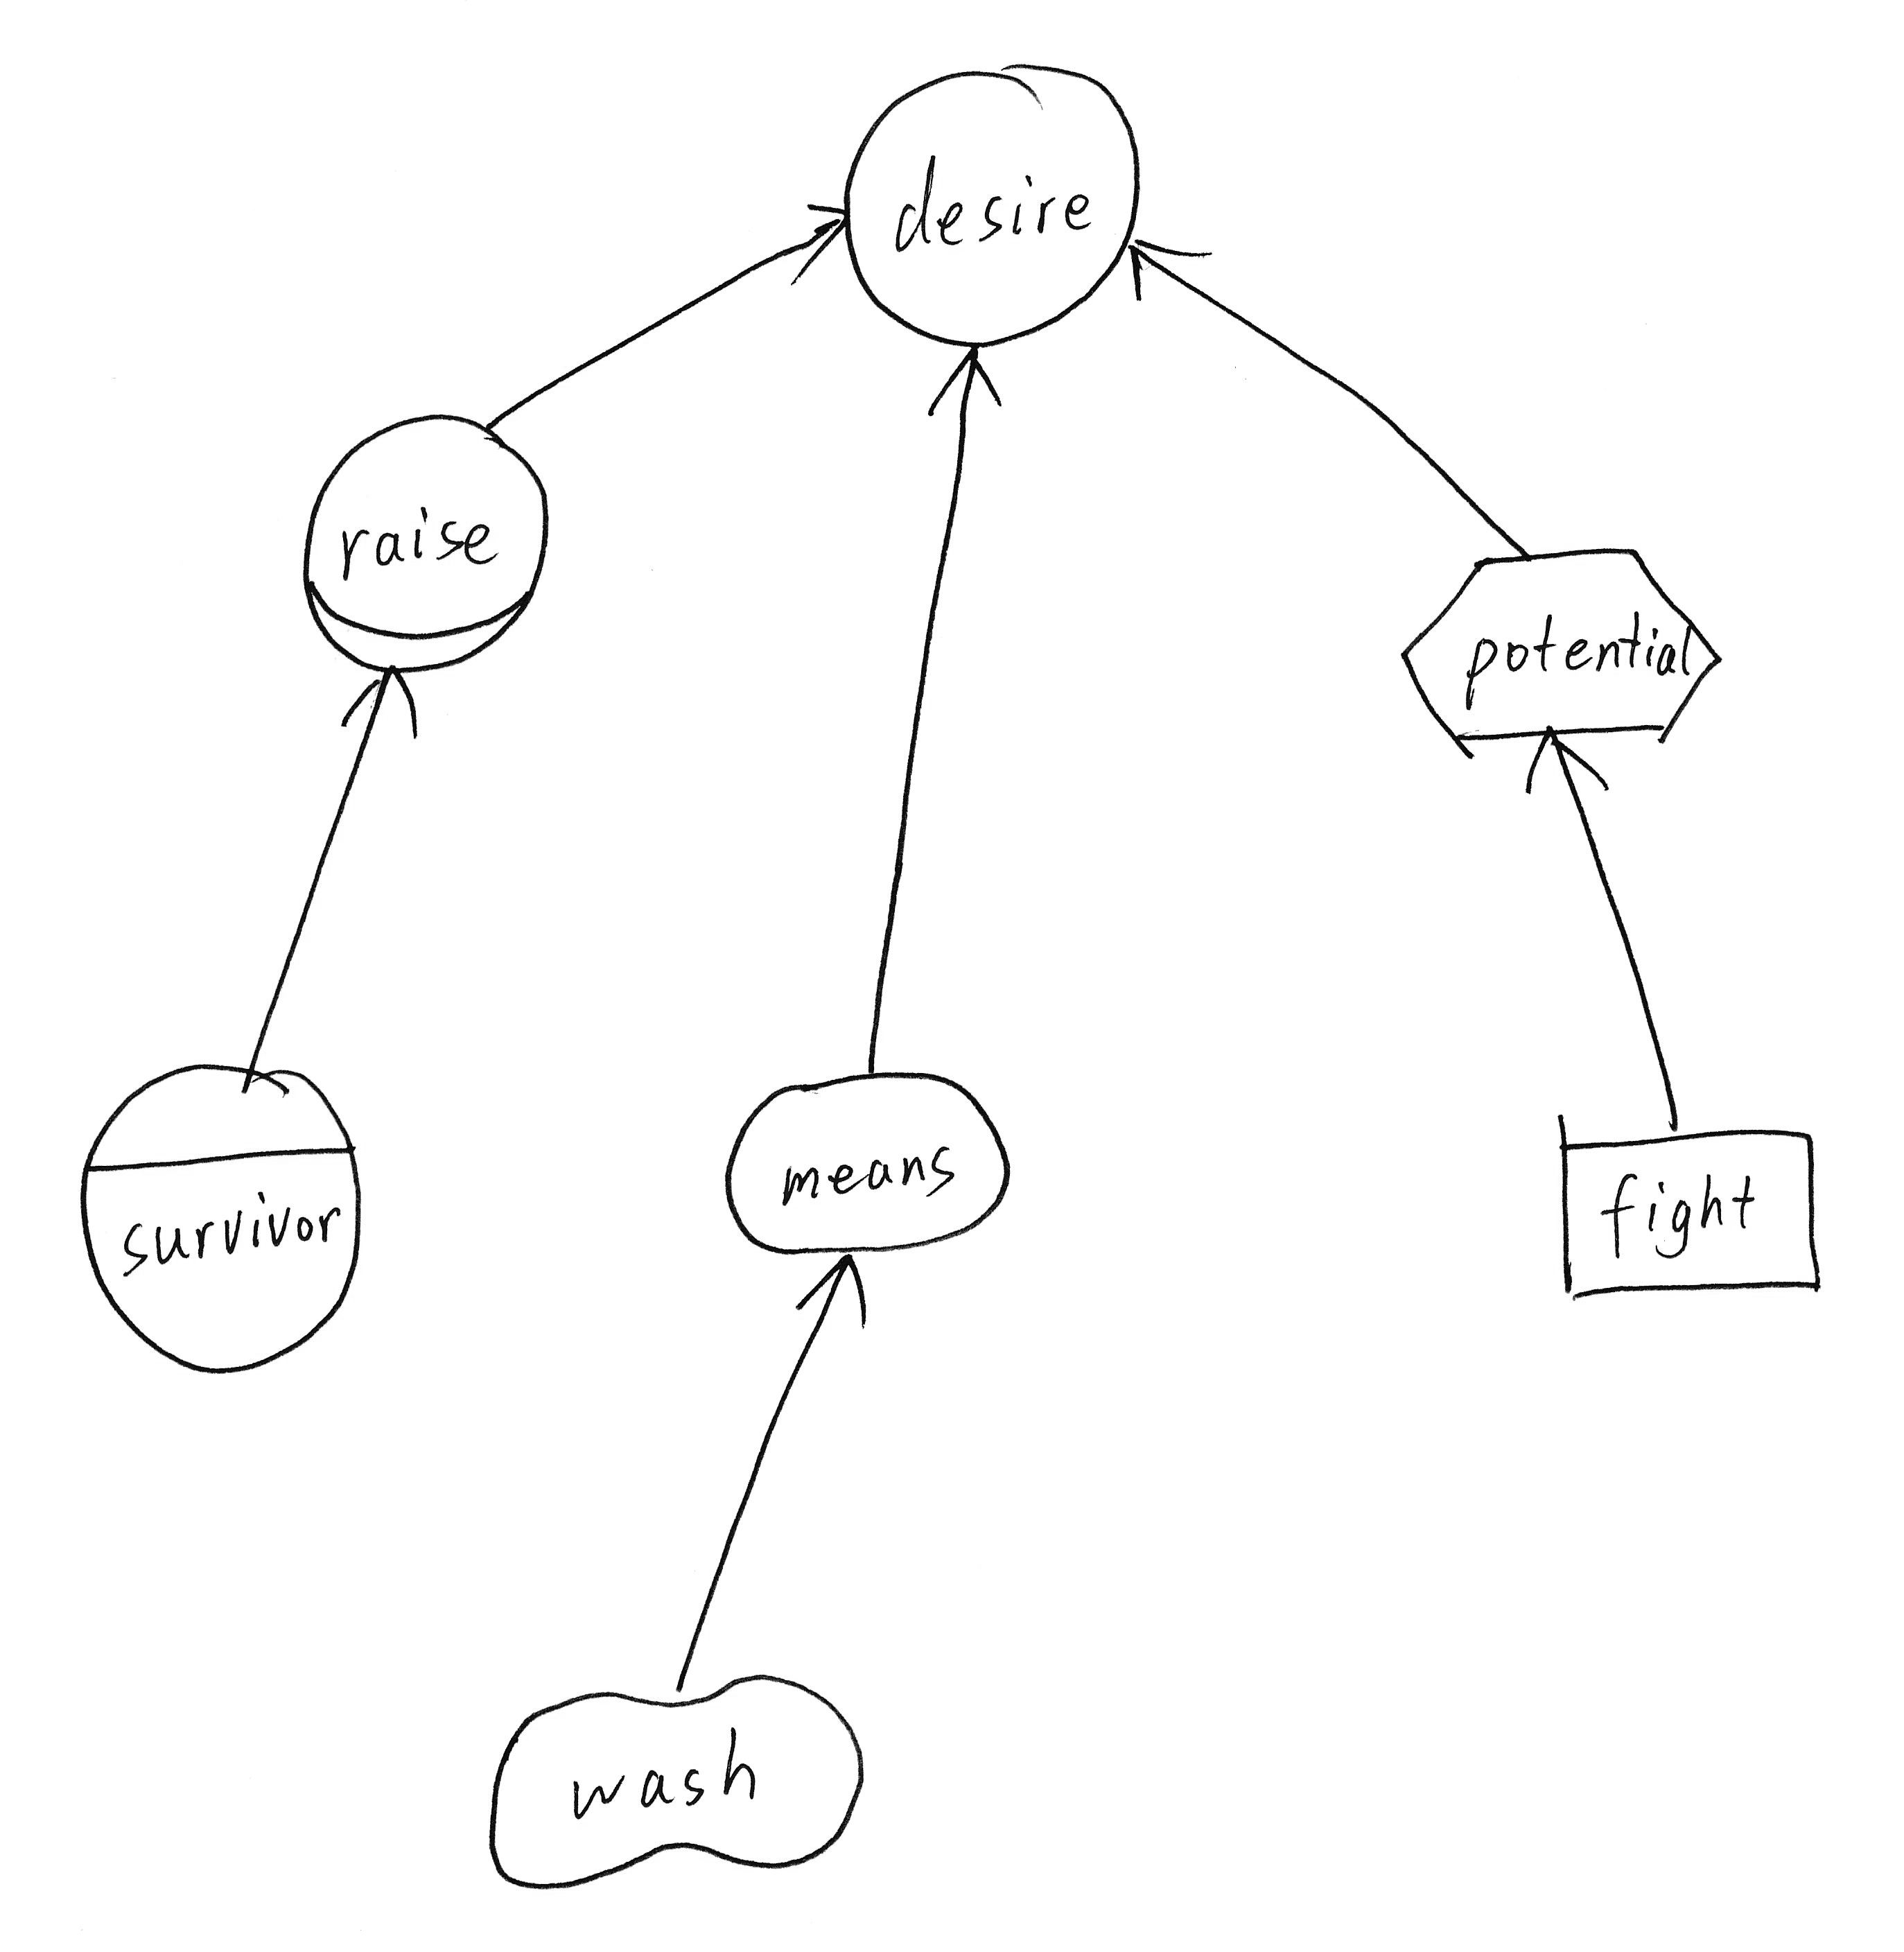actor: (830, 47, 1158, 365)
agent: (61, 1047, 380, 1385)
arrow: (1112, 223, 1227, 316), (1510, 717, 1622, 809), (917, 335, 1013, 436), (335, 652, 429, 750), (778, 192, 867, 295), (788, 1244, 879, 1338)
goal: (706, 1057, 1032, 1266)
quality: (471, 1655, 882, 1898)
resource: (1541, 1101, 1839, 1317)
role: (284, 396, 565, 689)
task: (1386, 530, 1737, 764)
